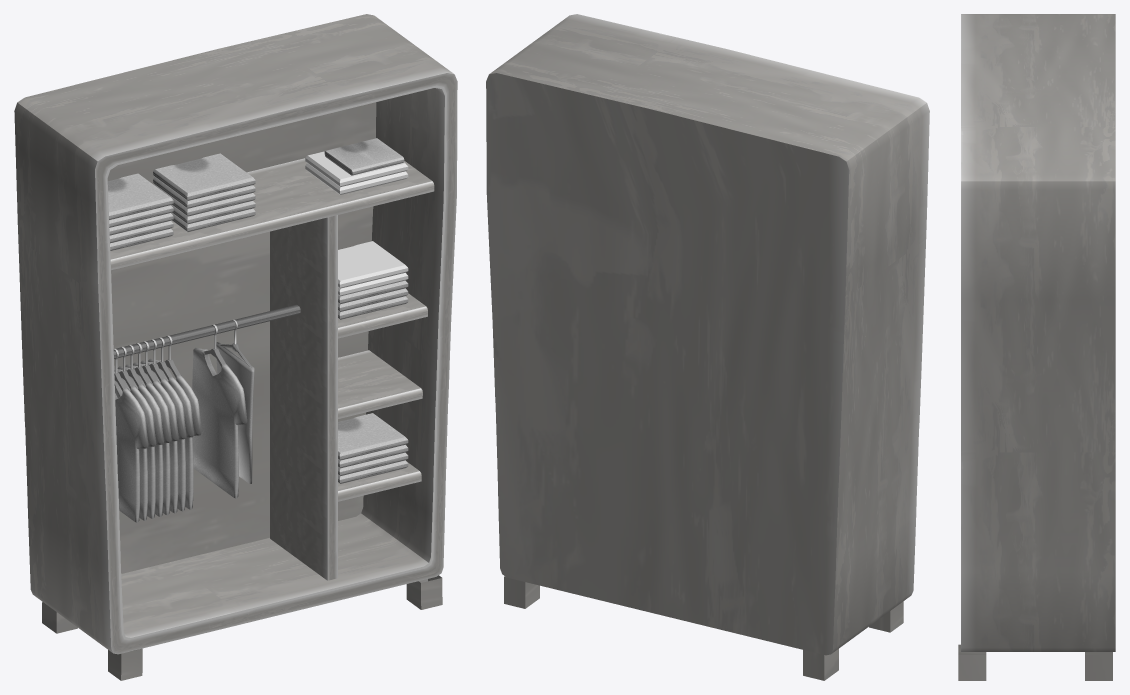
The model's file is schrank_filled.fbx.
3 renders of one model, left to right at view 1: azimuth 30°, elevation 25°; view 2: azimuth 150°, elevation 25°; view 3: azimuth 270°, elevation 25°, orthographic. The views are drawn at different scales.
Parts seen in each view (by area): view 1: 1, Plane.002, Plane.006, Plane.007; view 2: 1; view 3: 1.
Boxes of the visible parts, <box> form: 1: <box>14,14,457,680</box>; Plane.002: <box>107,138,408,483</box>; Plane.006: <box>192,324,247,498</box>; Plane.007: <box>216,319,254,483</box>; 1: <box>486,14,929,680</box>; 1: <box>958,14,1115,680</box>.
Bounding box in the file's own units: 208 × 291 × 81.26.
